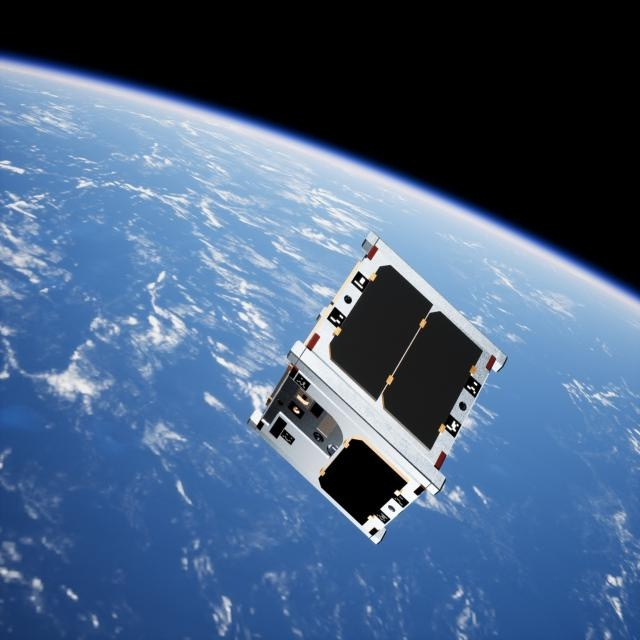satellite: (242, 233, 506, 550)
